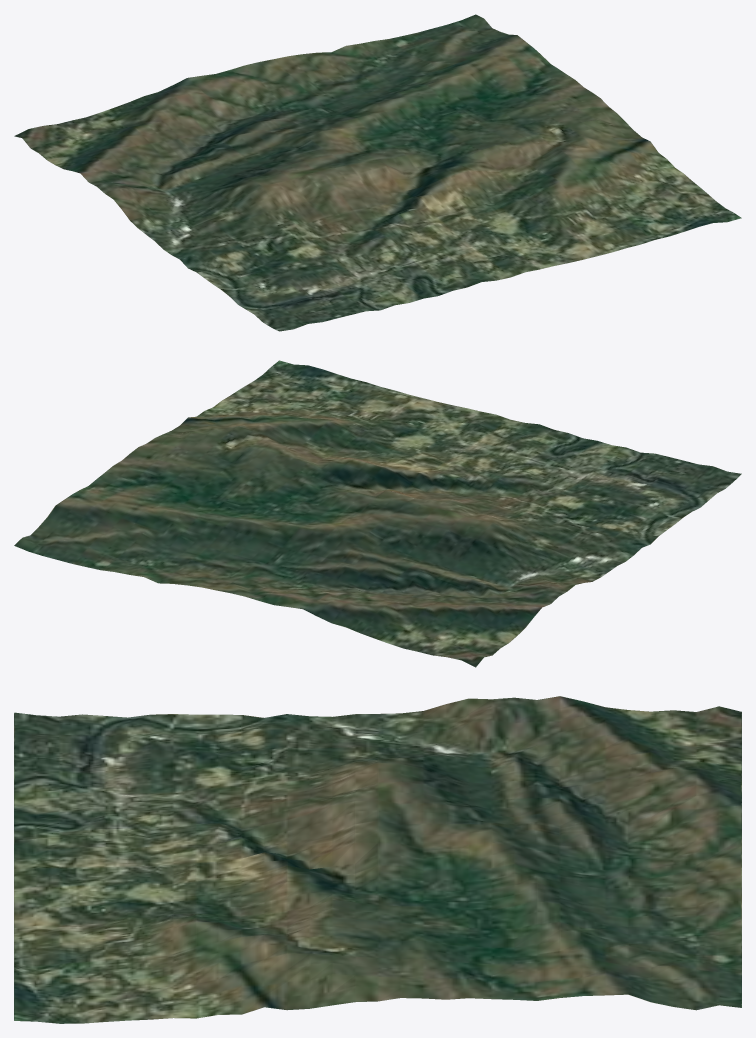
The picture shows the model from 3 angles, top to bottom: view 1: azimuth 30°, elevation 25°; view 2: azimuth 150°, elevation 25°; view 3: azimuth 270°, elevation 25°; orthographic projection. The views are drawn at different scales.
Bounding box in the file's own units: 15586 × 823 × 15510.
1 material, 1 textured.
